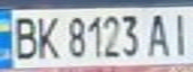1: (84, 11, 106, 58)
2: (103, 11, 124, 58)
3: (118, 11, 145, 60)
8: (63, 11, 87, 58)
A: (145, 10, 172, 58)
B: (6, 12, 42, 61)
I: (166, 8, 193, 57)
K: (33, 12, 63, 61)
